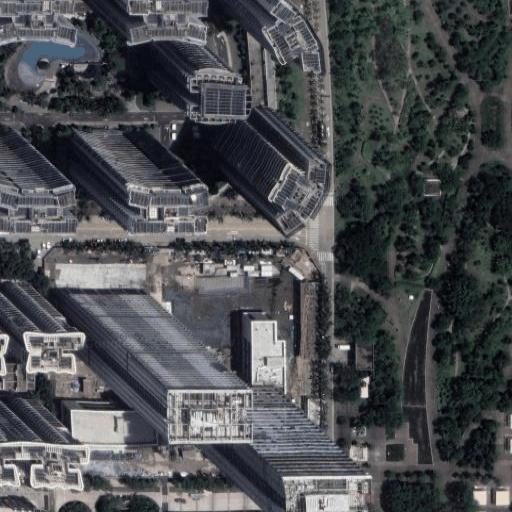building: (0, 21, 94, 93), (219, 103, 284, 185), (199, 385, 290, 441), (64, 295, 149, 351), (71, 131, 159, 185), (140, 28, 203, 82), (60, 403, 147, 441), (251, 322, 290, 385), (0, 400, 41, 448), (0, 283, 41, 325), (0, 129, 23, 180), (217, 0, 264, 19), (350, 335, 372, 369), (352, 369, 369, 397), (493, 484, 511, 503), (83, 379, 91, 395)
